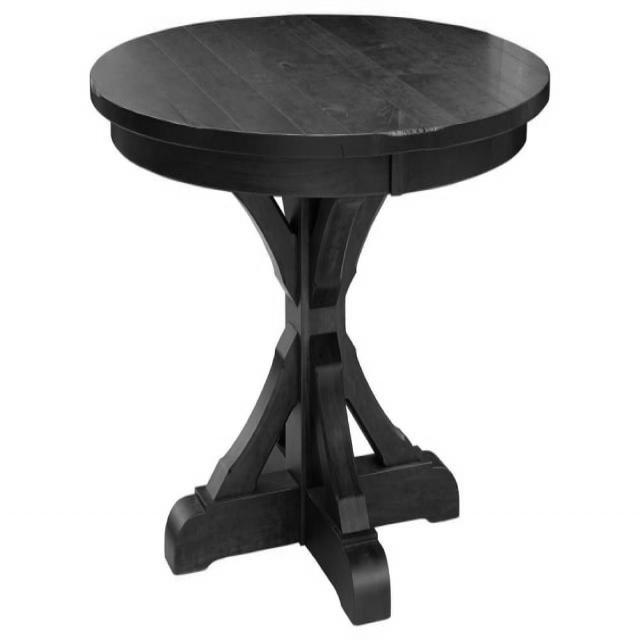table: (89, 15, 551, 622)
